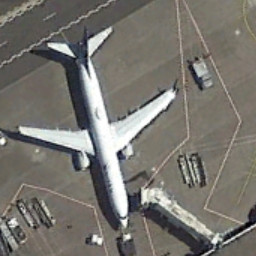Airplane: (9, 24, 188, 242)
